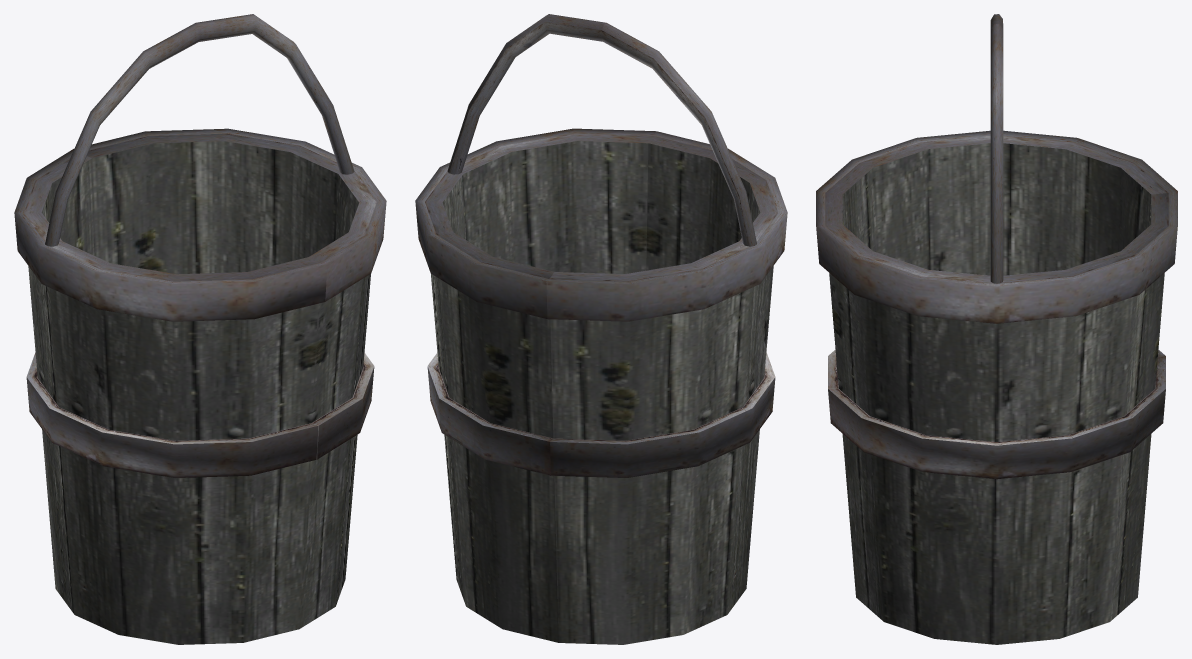
The model's file is Bucket.dae.
The picture shows the model from 3 angles, left to right: view 1: azimuth 30°, elevation 25°; view 2: azimuth 150°, elevation 25°; view 3: azimuth 270°, elevation 25°; orthographic projection.
Parts seen in each view (by area): view 1: meshU3D; view 2: meshU3D; view 3: meshU3D.
Boxes of the visible parts, left/top/right/bottom form: meshU3D: left=14, top=14, right=386, bottom=644; meshU3D: left=415, top=14, right=787, bottom=644; meshU3D: left=816, top=14, right=1177, bottom=644.
Bounding box in the file's own units: 14.57 × 24.19 × 14.21.
